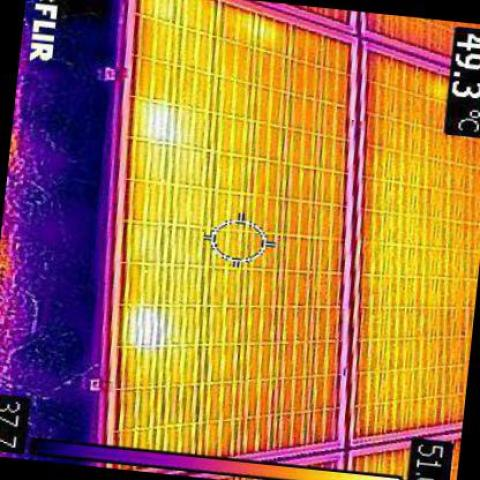fault: (144, 97, 191, 138), (132, 305, 173, 352)
